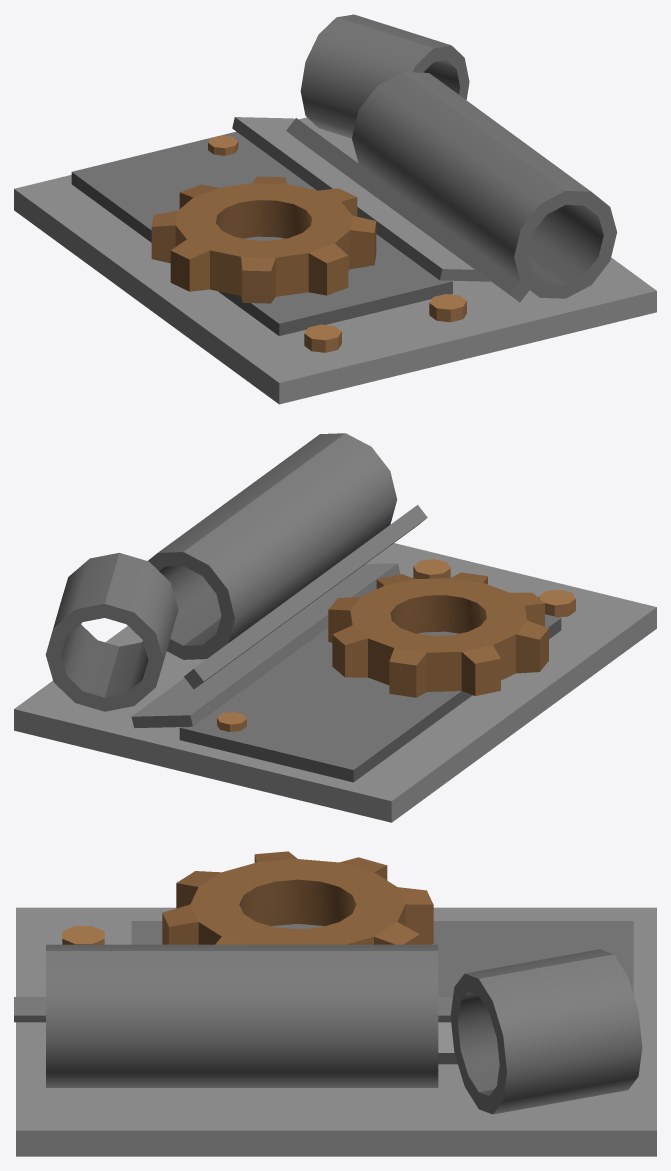
The model's file is MetalScrap.fbx.
3 views of the same model, one above another, from view 1: azimuth 30°, elevation 25°; view 2: azimuth 150°, elevation 25°; view 3: azimuth 270°, elevation 25° (orthographic). The views are drawn at different scales.
Visible parts, largest first — view 1: Cube; view 2: Cube; view 3: Cube.
Boxes of the visible parts, x1,y1,x2,y2 form: Cube: (14, 14, 656, 404); Cube: (14, 433, 656, 822); Cube: (14, 851, 656, 1156).
Bounding box in the file's own units: 28.42 × 9.08 × 33.28.
